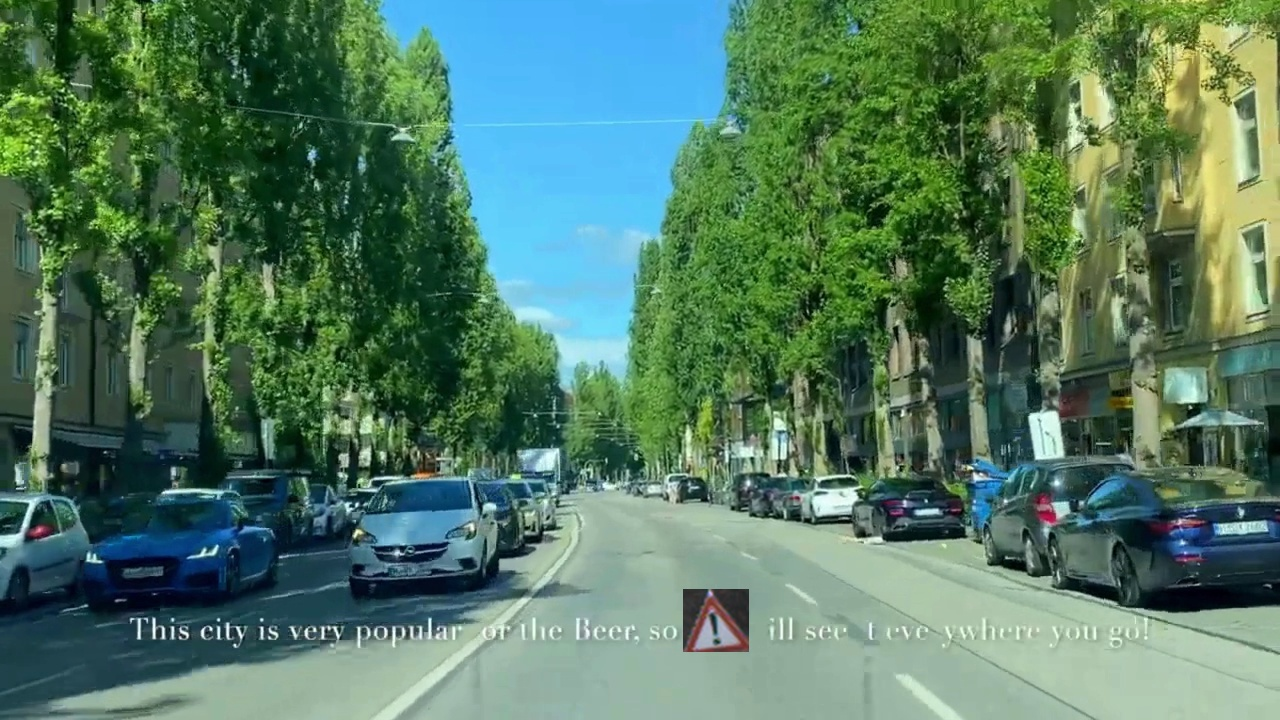Caution: (683, 589, 749, 652)
